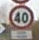limite 40: (8, 1, 34, 29)
